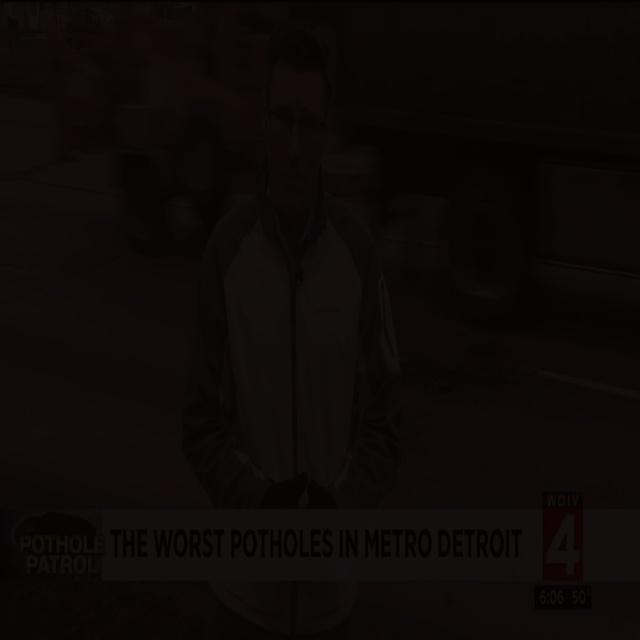Pothole: (400, 325, 527, 410)
